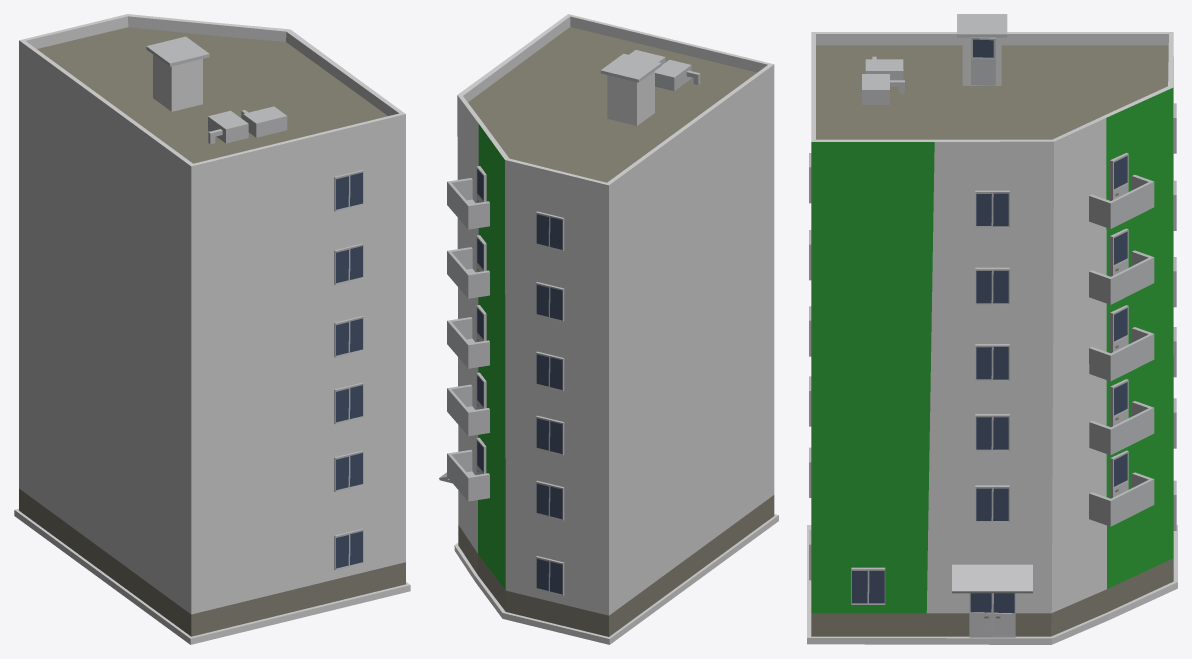
File: apartment_complex_01.glb
3 views of the same model, side by side, from view 1: azimuth 30°, elevation 25°; view 2: azimuth 150°, elevation 25°; view 3: azimuth 270°, elevation 25° (orthographic). The views are drawn at different scales.
Visible parts, largest first — view 1: Cube.007; view 2: Cube.007; view 3: Cube.007.
Boxes of the visible parts, bbox=[...] form: Cube.007: bbox=[14, 14, 410, 644]; Cube.007: bbox=[439, 14, 778, 644]; Cube.007: bbox=[807, 14, 1177, 644].
Size of the model in its own units: 1.77 by 3.54 by 2.19.
